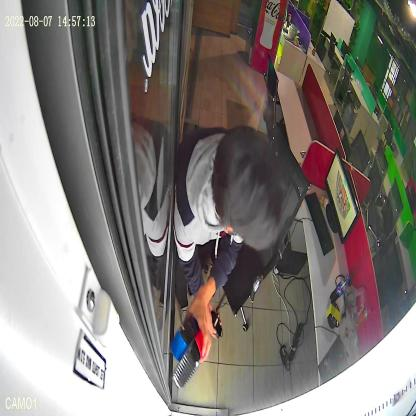blue: (169, 317, 198, 363)
red: (171, 329, 205, 389)
